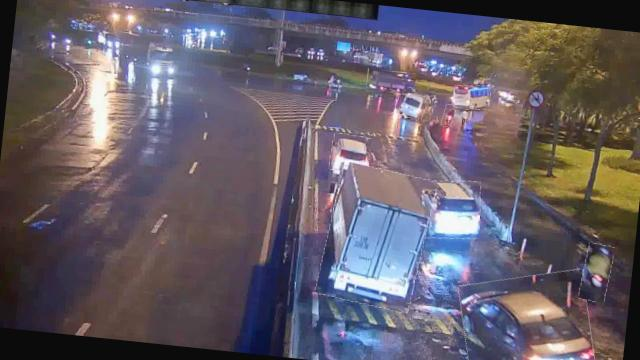Bike: (579, 243, 614, 304), (442, 104, 456, 128)
Bus: (454, 83, 492, 112), (395, 90, 428, 120)
Car: (454, 263, 601, 360), (414, 177, 484, 242), (328, 133, 372, 175)
Truck: (318, 163, 434, 313), (366, 69, 416, 97)
